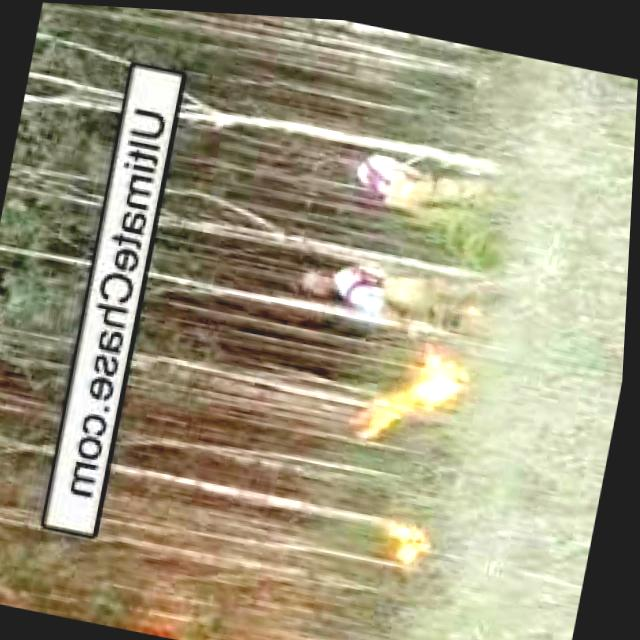helmet: (325, 319, 480, 470), (370, 499, 445, 581)
